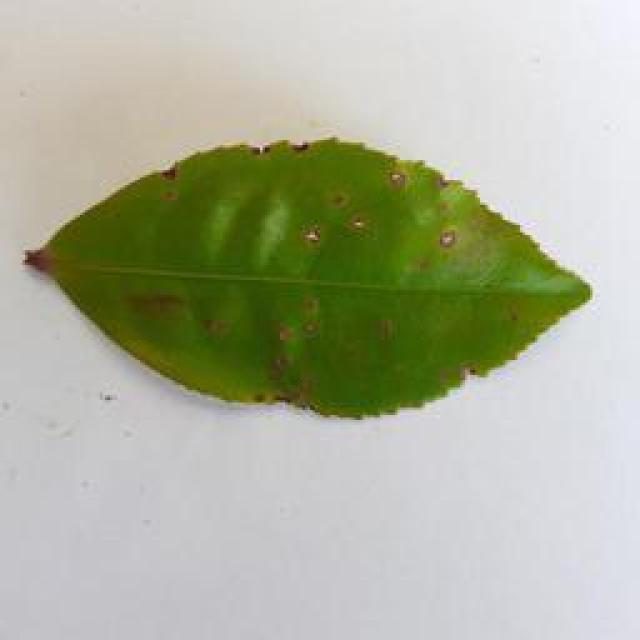Helopeltis: (7, 135, 591, 439)
